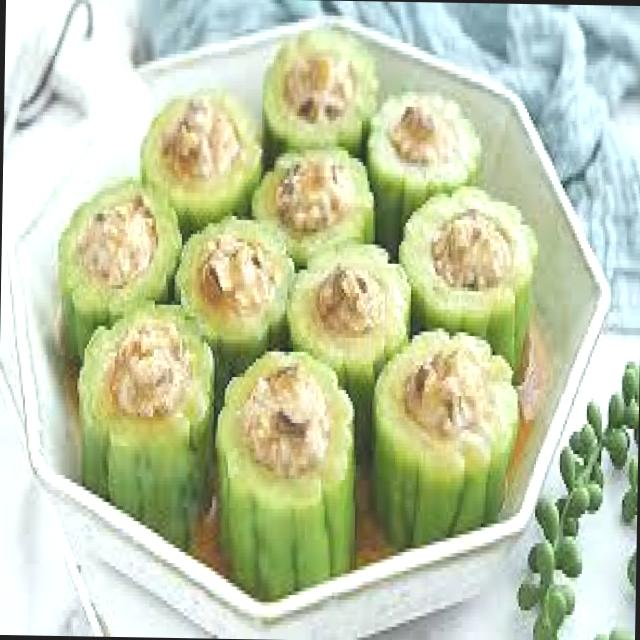kho qua: (217, 351, 354, 595), (79, 304, 212, 548), (374, 331, 517, 540), (400, 186, 537, 359), (60, 176, 181, 355), (176, 215, 294, 391), (289, 244, 408, 390), (368, 92, 480, 245), (141, 88, 261, 230), (254, 146, 375, 262), (265, 30, 379, 150)
